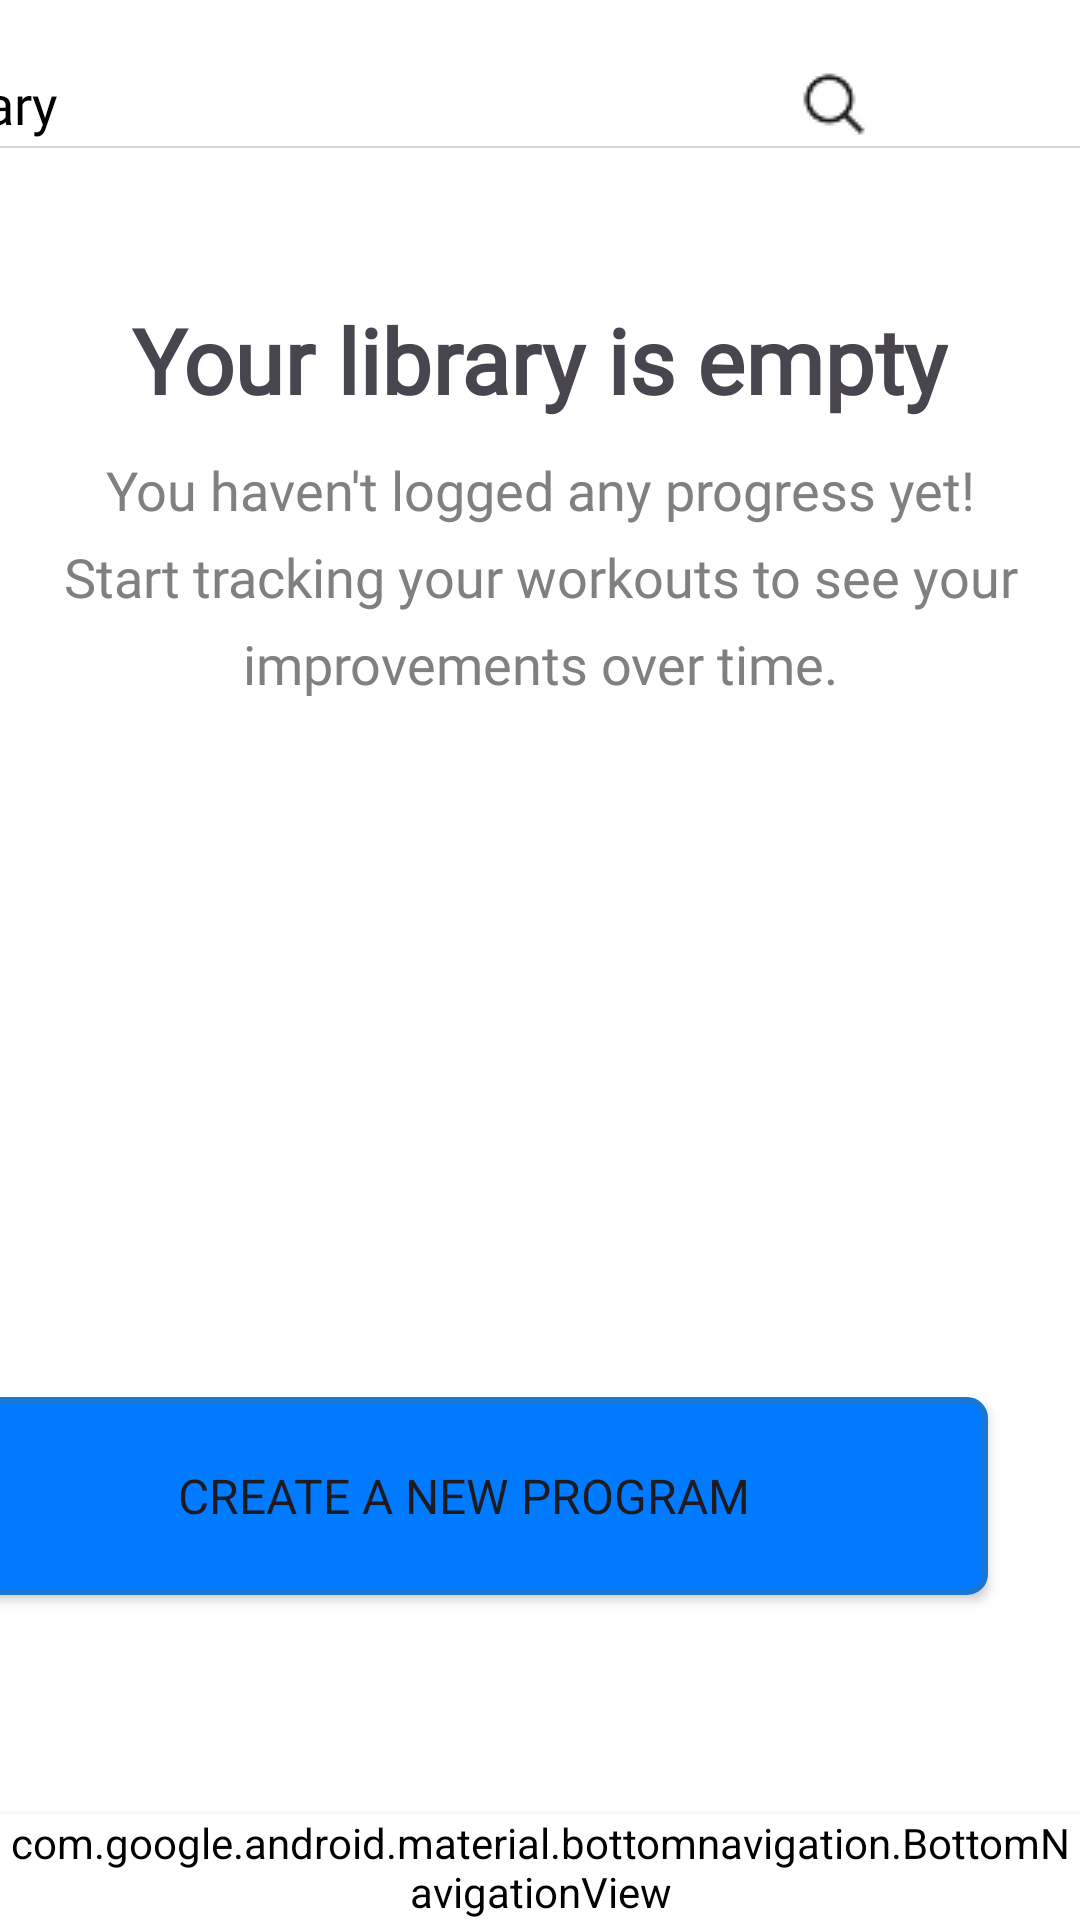

Screen size 1080px×1920px. Icon name, then its center in pixels as [x,y]:
Search: [834,104]
